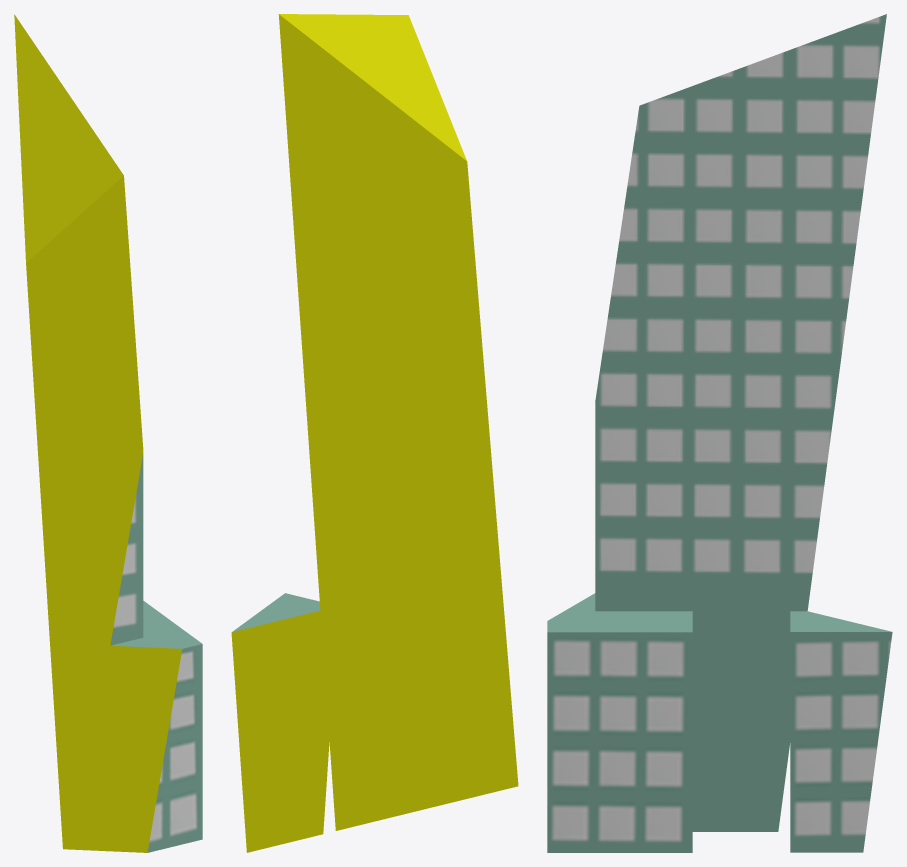
The model's file is esShard4.fbx.
3 views of the same model, side by side, from view 1: azimuth 30°, elevation 25°; view 2: azimuth 150°, elevation 25°; view 3: azimuth 270°, elevation 25° (orthographic). The views are drawn at different scales.
Parts seen in each view (by area): view 1: shard67; view 2: shard67; view 3: shard67.
Part boxes in pixels (bbox=[...]): shard67: bbox=[14, 14, 202, 852]; shard67: bbox=[231, 14, 518, 852]; shard67: bbox=[547, 14, 892, 852].
Bounding box in the file's own units: 0.0497 × 0.2998 × 0.1147.
Materials: 2 (1 with a texture image).
